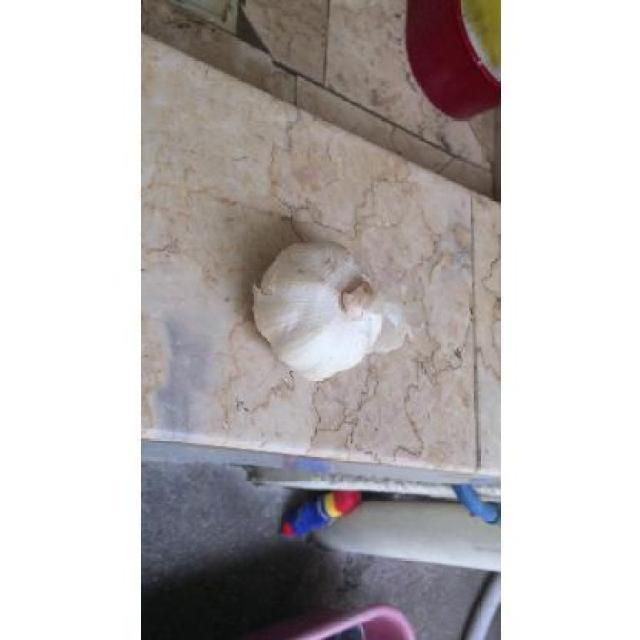garlic: (254, 242, 406, 381)
